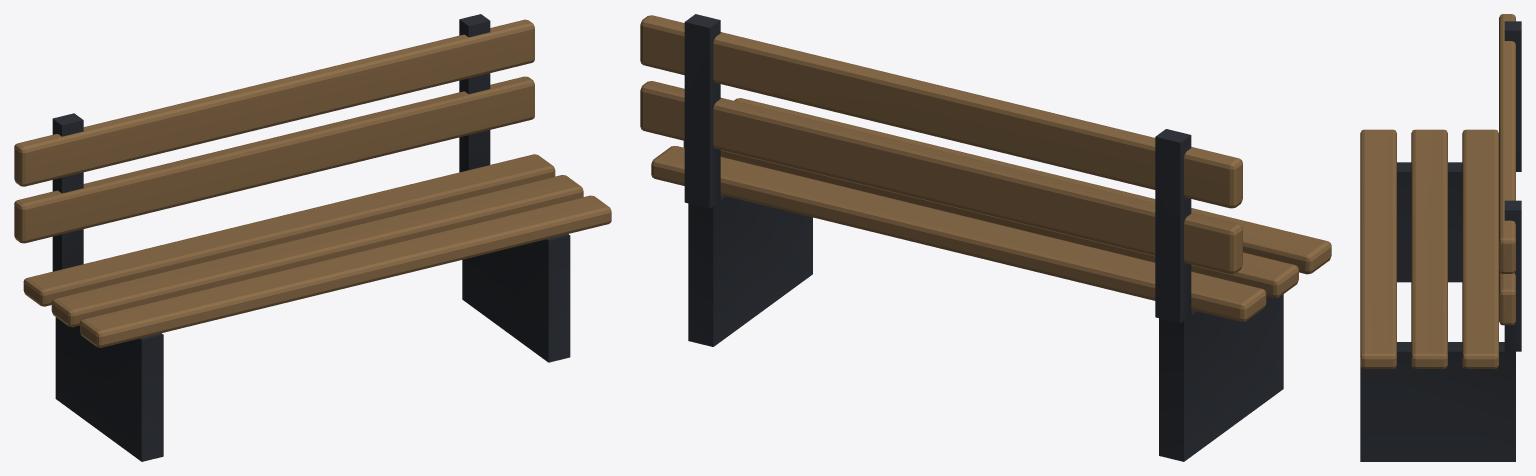
Rendered from banco-B5BJoD8D.glb.
The picture shows the model from 3 angles, left to right: view 1: azimuth 30°, elevation 25°; view 2: azimuth 150°, elevation 25°; view 3: azimuth 270°, elevation 25°; orthographic projection. The views are drawn at different scales.
Visible parts, largest first — view 1: pieza.003, pieza.004, pieza, pieza.001, pieza.002, pieza.005, pieza.007, pieza.006, pieza.008; view 2: pieza.003, pieza.004, pieza.002, pieza.005, pieza.007, pieza.008, pieza.006, pieza.001, pieza; view 3: pieza.007, pieza, pieza.001, pieza.002, pieza.004, pieza.005, pieza.008, pieza.006, pieza.003.
Boxes of the visible parts, <box> form: pieza.003: <box>14,76,534,243</box>; pieza.004: <box>14,19,534,186</box>; pieza: <box>80,195,611,347</box>; pieza.001: <box>51,175,583,327</box>; pieza.002: <box>23,154,555,306</box>; pieza.005: <box>55,317,163,461</box>; pieza.007: <box>462,234,570,362</box>; pieza.006: <box>52,113,83,271</box>; pieza.008: <box>459,14,490,172</box>; pieza.003: <box>640,81,1242,273</box>; pieza.004: <box>640,15,1242,208</box>; pieza.002: <box>651,146,1266,321</box>; pieza.005: <box>1159,294,1283,461</box>; pieza.007: <box>688,195,812,346</box>; pieza.008: <box>684,14,720,208</box>; pieza.006: <box>1155,129,1191,323</box>; pieza.001: <box>683,141,1298,297</box>; pieza: <box>734,98,1331,274</box>; pieza.007: <box>1360,342,1515,461</box>; pieza: <box>1360,129,1396,368</box>; pieza.001: <box>1411,129,1447,368</box>; pieza.002: <box>1462,129,1498,368</box>; pieza.004: <box>1499,14,1515,273</box>; pieza.005: <box>1397,162,1462,282</box>; pieza.008: <box>1504,200,1521,351</box>; pieza.006: <box>1504,21,1521,171</box>; pieza.003: <box>1499,270,1515,325</box>.
Size of the model in its own units: 1.9 by 0.98 by 0.57.
